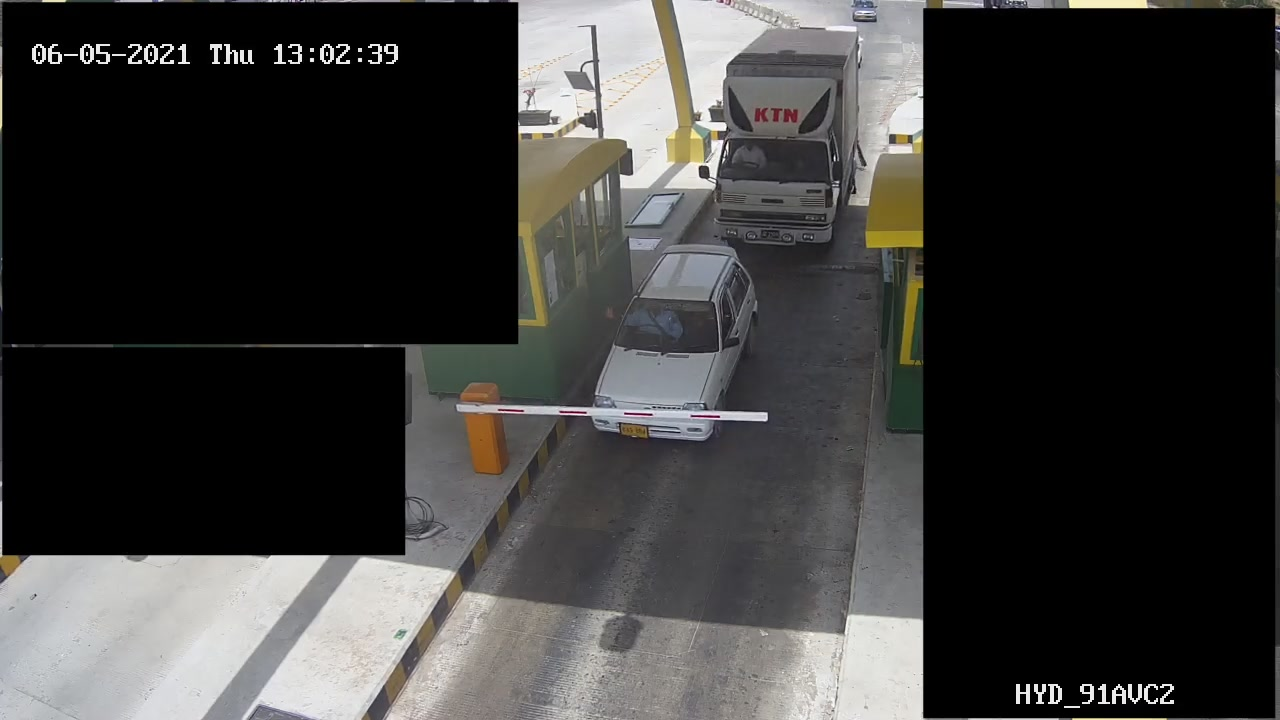F1: (593, 246, 761, 444)
F5: (707, 17, 866, 252)
